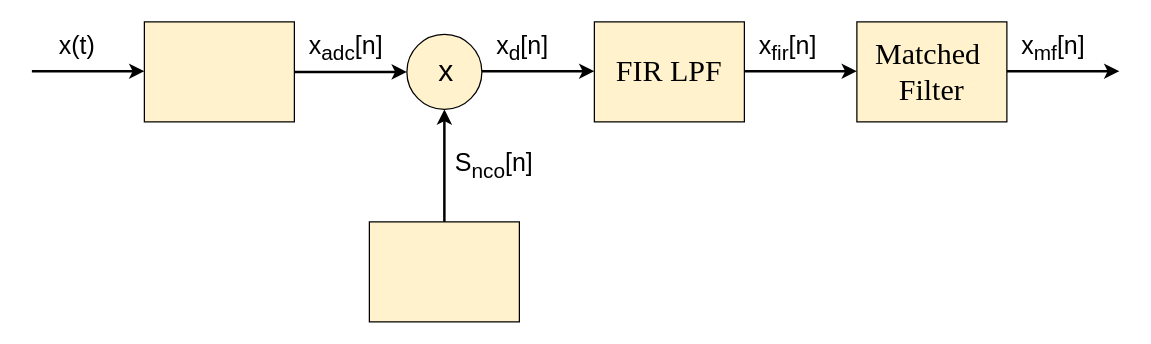
Some shapes in this 1151 by 344 pixel diagram are drawn without their labels. The shapes that lost their labels are listed below. From the top down, each one's centre as x and y in pixels, then its label:
pixel 218 71: ADC
pixel 443 271: NCO
